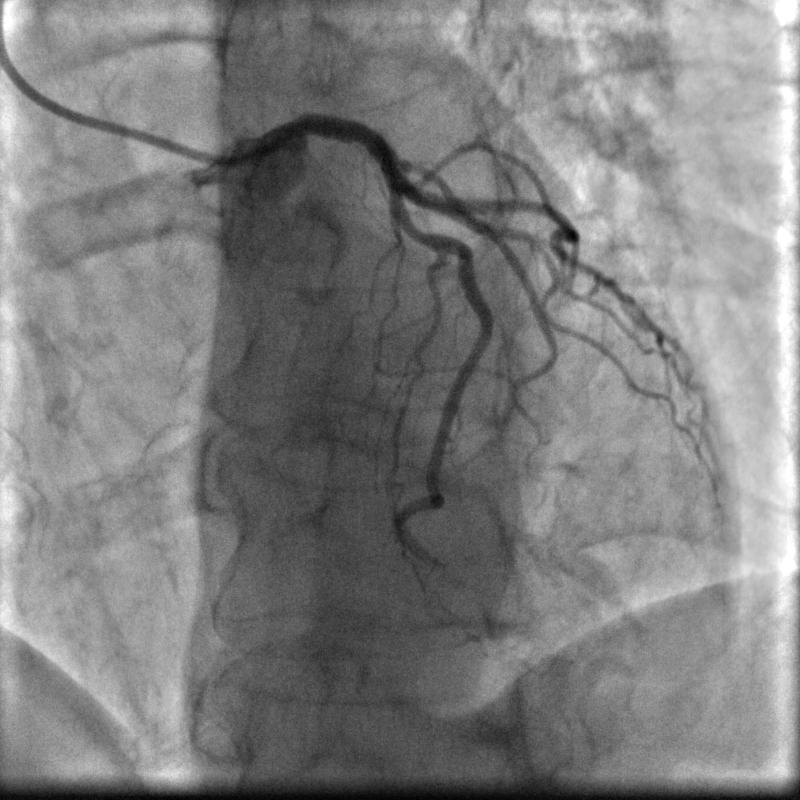Stenosis: (399, 215, 431, 243)
